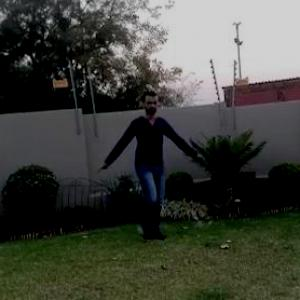land: (97, 96, 202, 234)
